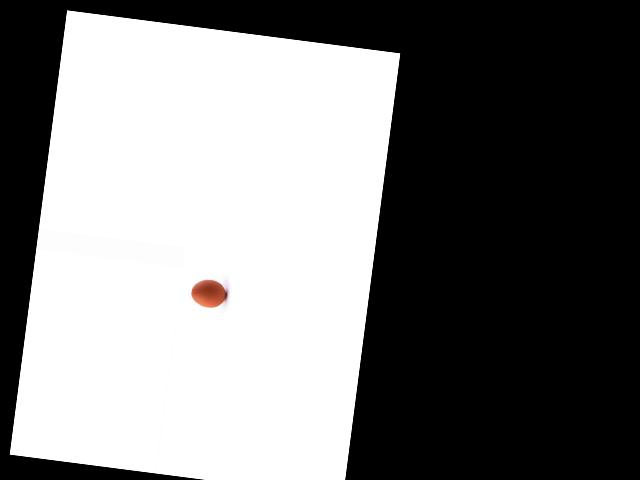egg: (189, 277, 227, 308)
